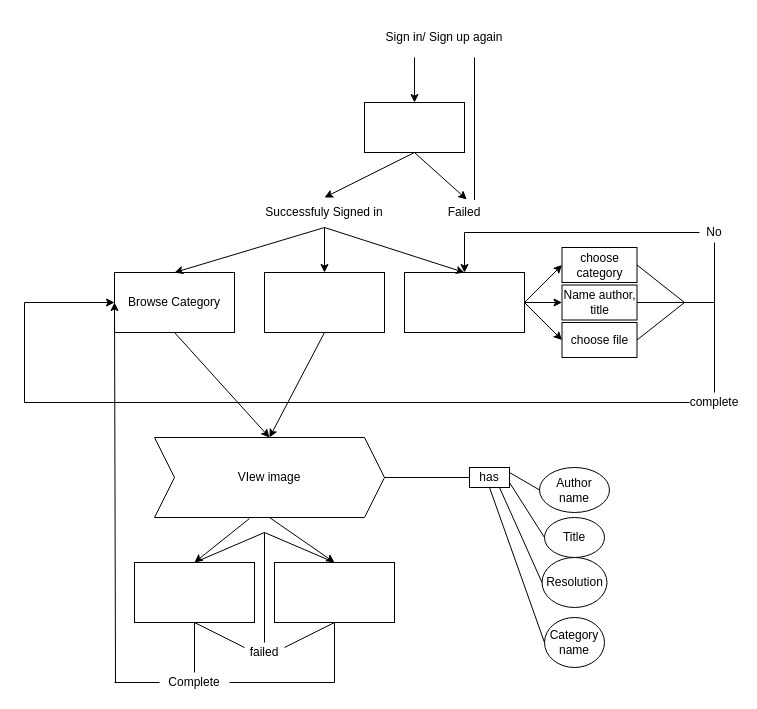
Image size: 757x709. Some labels were removed from this diagram. The centre of each missing label's shape, as x and y in pixels:
Browse Trending: pixel 324 302
Download: pixel 334 592
Set wallpaper: pixel 194 592
Upload: pixel 464 302
User: pixel 414 127
